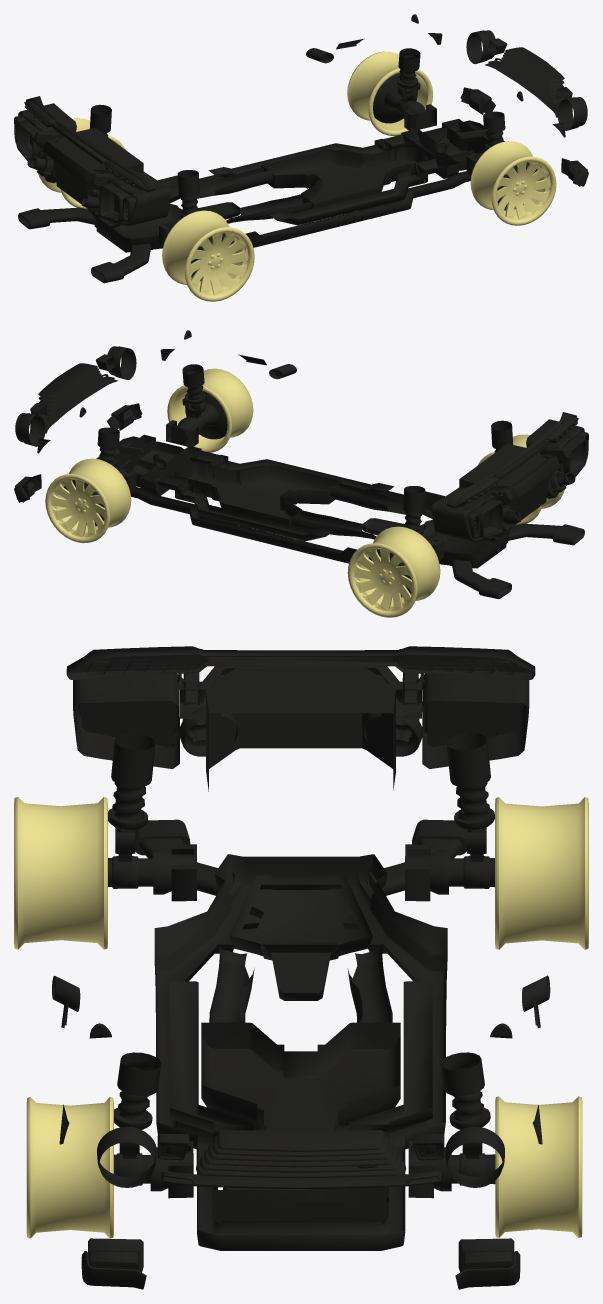
File: fennec.dae
The picture shows the model from 3 angles, top to bottom: view 1: azimuth 30°, elevation 25°; view 2: azimuth 150°, elevation 25°; view 3: azimuth 270°, elevation 25°; orthographic projection. The views are drawn at different scales.
Visible parts, largest first — view 1: Fennec, Alpha - BL (Fennec), Alpha - FL (Fennec), Alpha - FR (Fennec), Alpha - BR (Fennec); view 2: Fennec, Alpha - BR (Fennec), Alpha - FR (Fennec), Alpha - FL (Fennec), Alpha - BL (Fennec); view 3: Fennec, Alpha - BL (Fennec), Alpha - BR (Fennec), Alpha - FR (Fennec), Alpha - FL (Fennec).
Part boxes in pixels (bbox=[...]): Fennec: bbox=[14, 14, 588, 283]; Alpha - BL (Fennec): bbox=[162, 210, 254, 301]; Alpha - FL (Fennec): bbox=[470, 141, 556, 225]; Alpha - FR (Fennec): bbox=[347, 51, 433, 135]; Alpha - BR (Fennec): bbox=[37, 118, 125, 209]; Fennec: bbox=[14, 330, 588, 599]; Alpha - BR (Fennec): bbox=[347, 526, 440, 617]; Alpha - FR (Fennec): bbox=[45, 458, 131, 543]; Alpha - FL (Fennec): bbox=[167, 368, 253, 452]; Alpha - BL (Fennec): bbox=[477, 434, 565, 525]; Fennec: bbox=[52, 646, 550, 1289]; Alpha - BL (Fennec): bbox=[14, 797, 107, 949]; Alpha - BR (Fennec): bbox=[495, 797, 588, 949]; Alpha - FR (Fennec): bbox=[495, 1096, 582, 1237]; Alpha - FL (Fennec): bbox=[26, 1097, 113, 1238].
Bounding box in the file's own units: 136 × 33.07 × 72.47.
